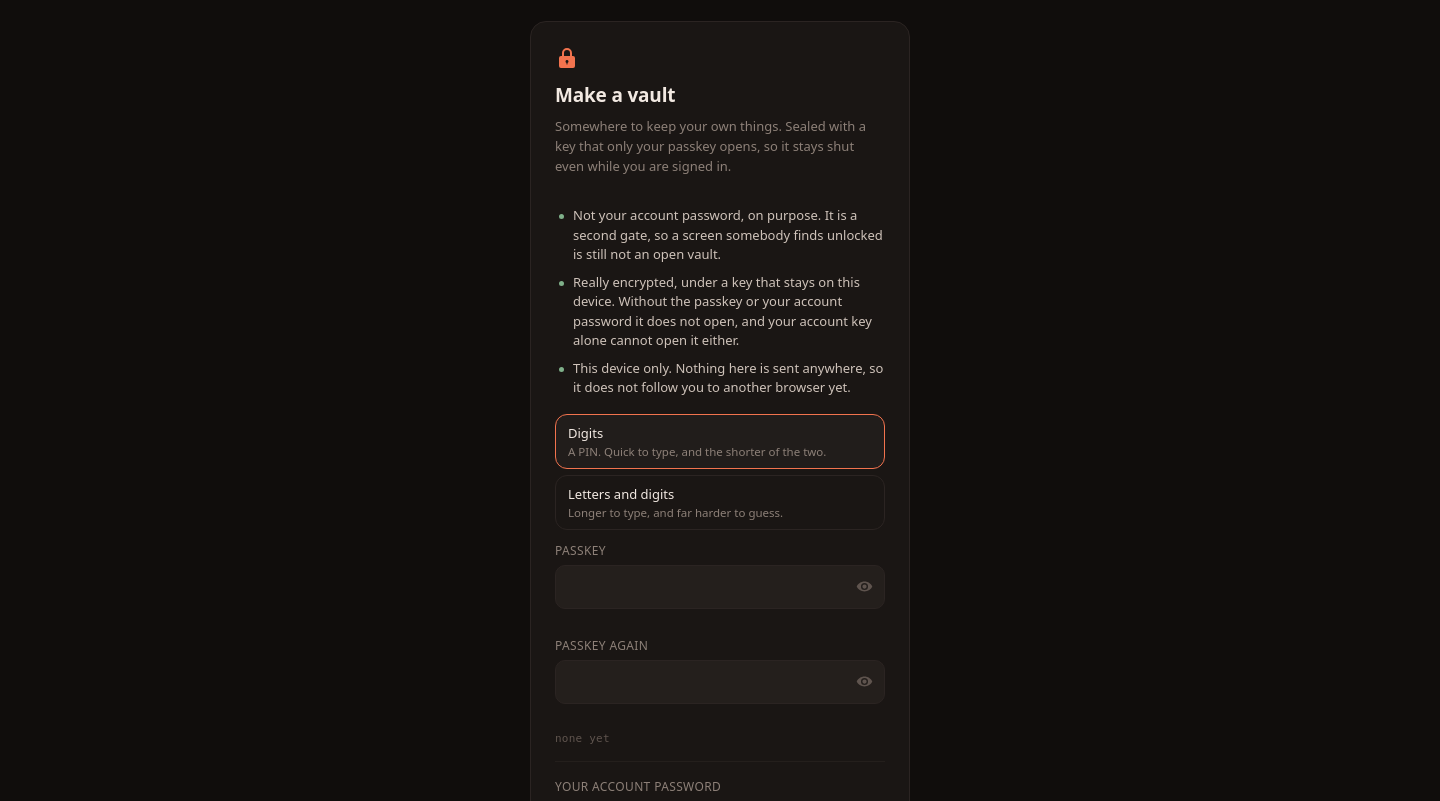
Scenario: the vault screen › shuts again on Lock, and refuses the wrong passkey
Type "318842" into the password field labelled "Passkey". click: (720, 587)
box: [555,565,885,609]
Type "318842" into the password field labelled "Passkey again". click: (720, 682)
box: [555,660,885,704]
(page scrolled)
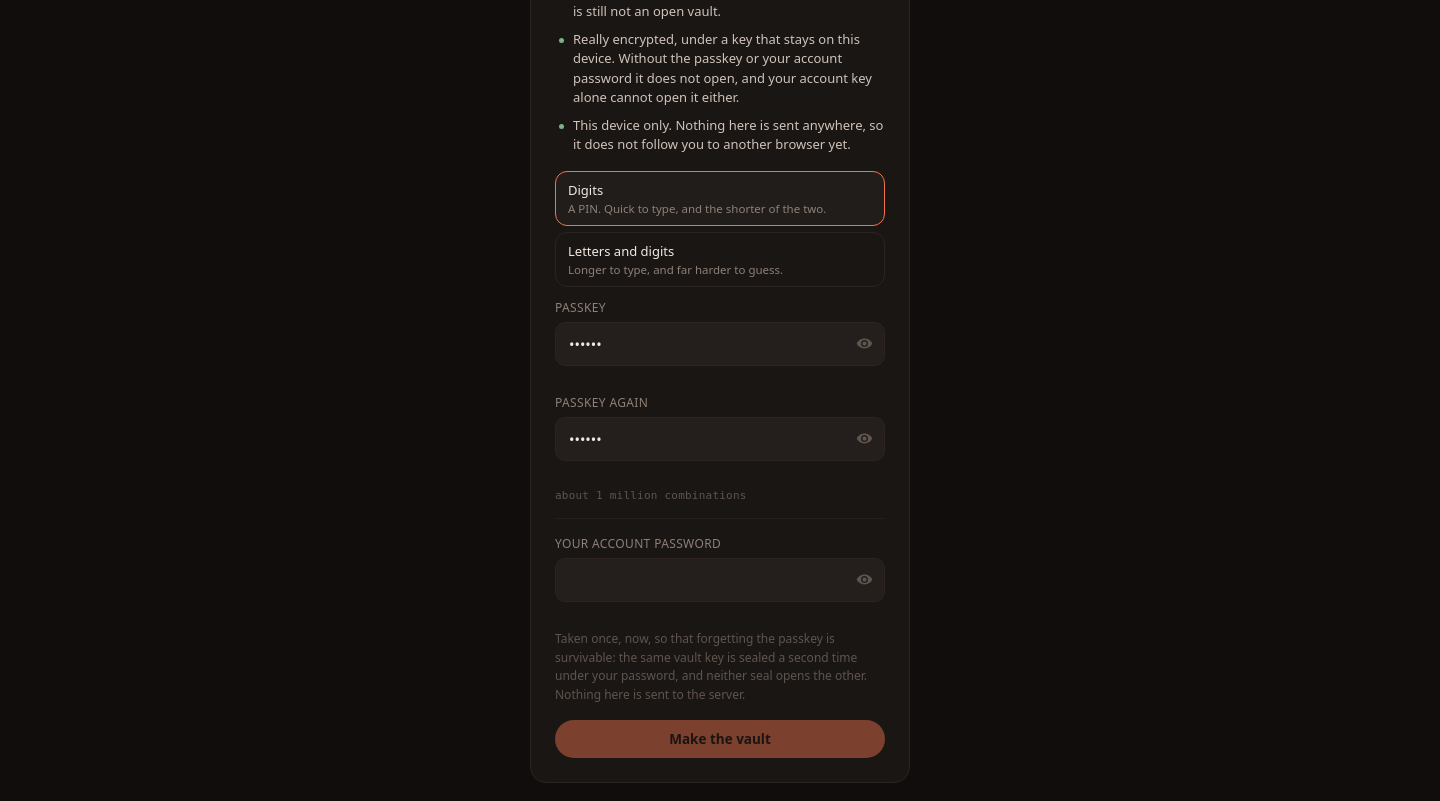
Type "correct-horse-battery-staple" into the password field labelled "Your account password". click: (720, 580)
box: [555,558,885,602]
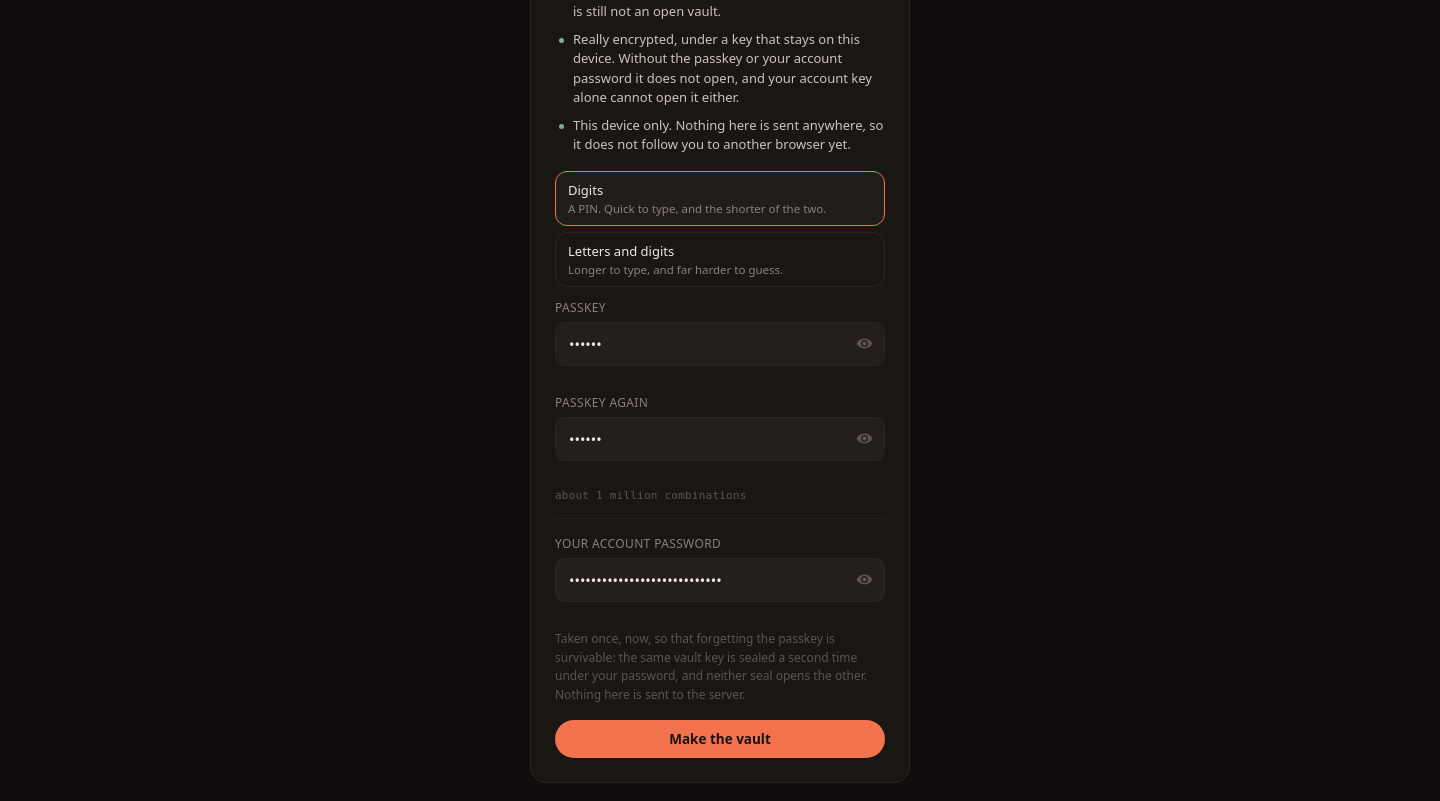
Click the button "Make the vault". click: click(720, 739)
box: [555,720,885,758]
(page scrolled)
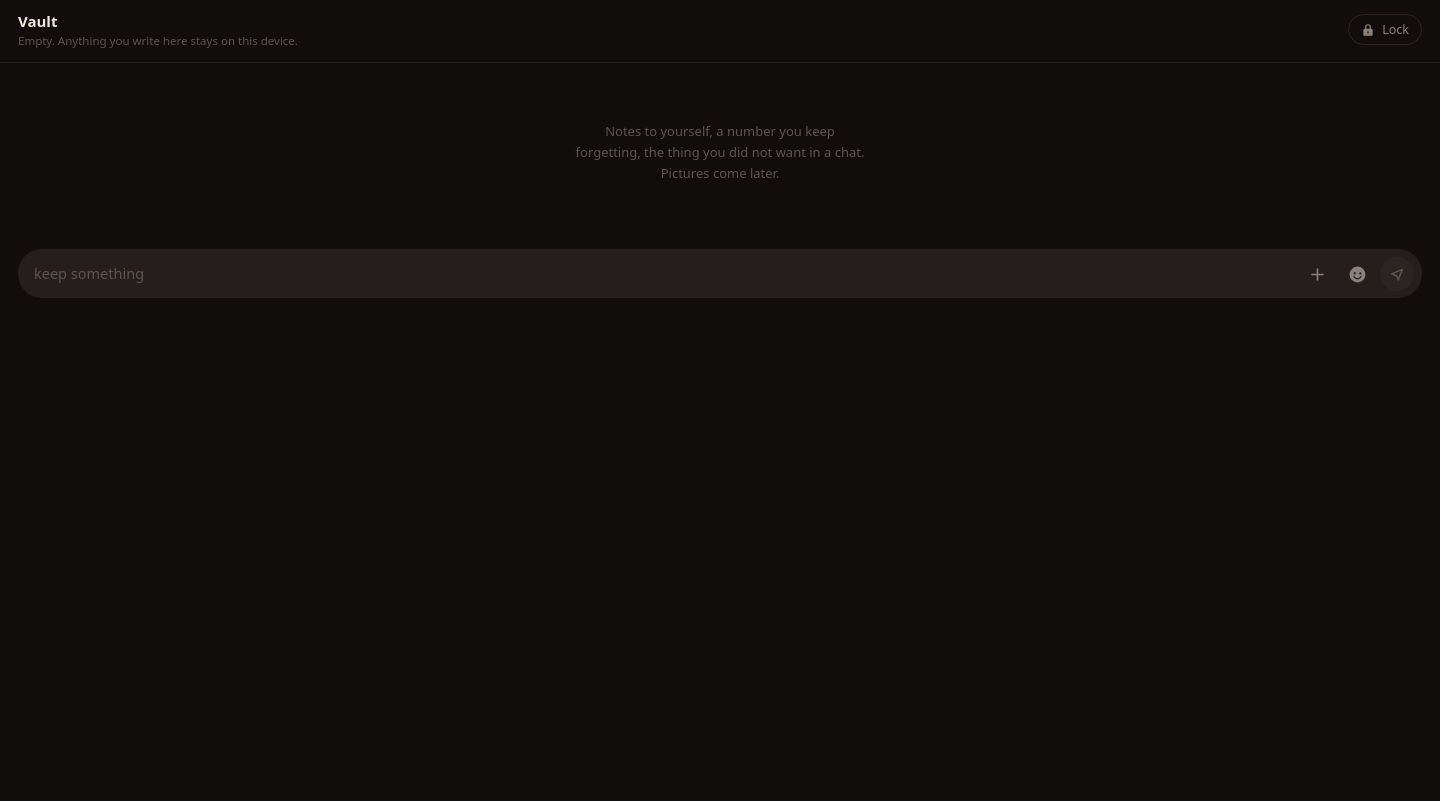
Now the text box with placeholder "keep something" is shown, box [34,256,1294,291]
Click the button "Lock". click: click(1385, 30)
box: [1348,14,1422,45]
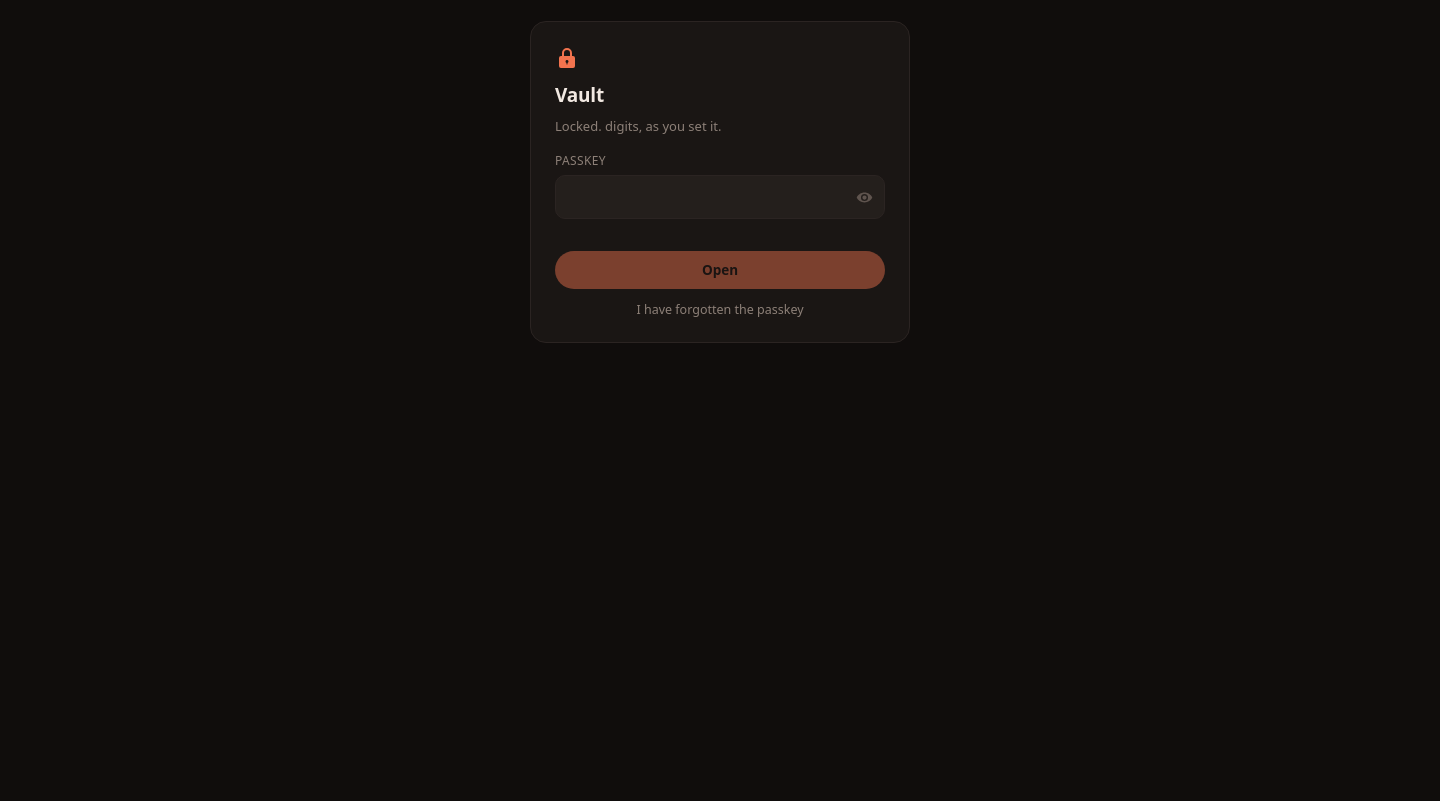
Type "000000" into the password field labelled "Passkey". click: (720, 197)
box: [555,175,885,219]
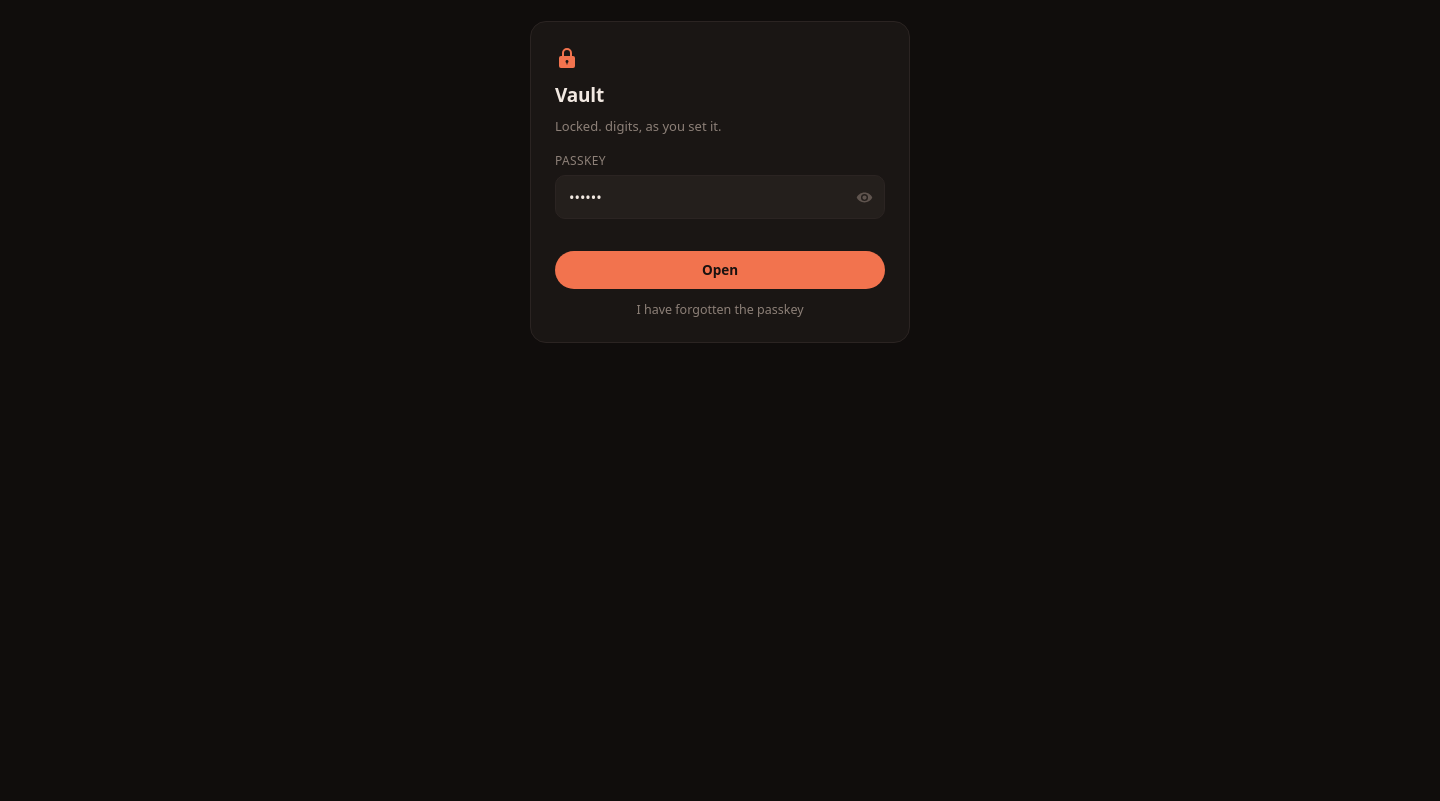
Click the button "Open". click: click(720, 270)
box: [555,251,885,289]
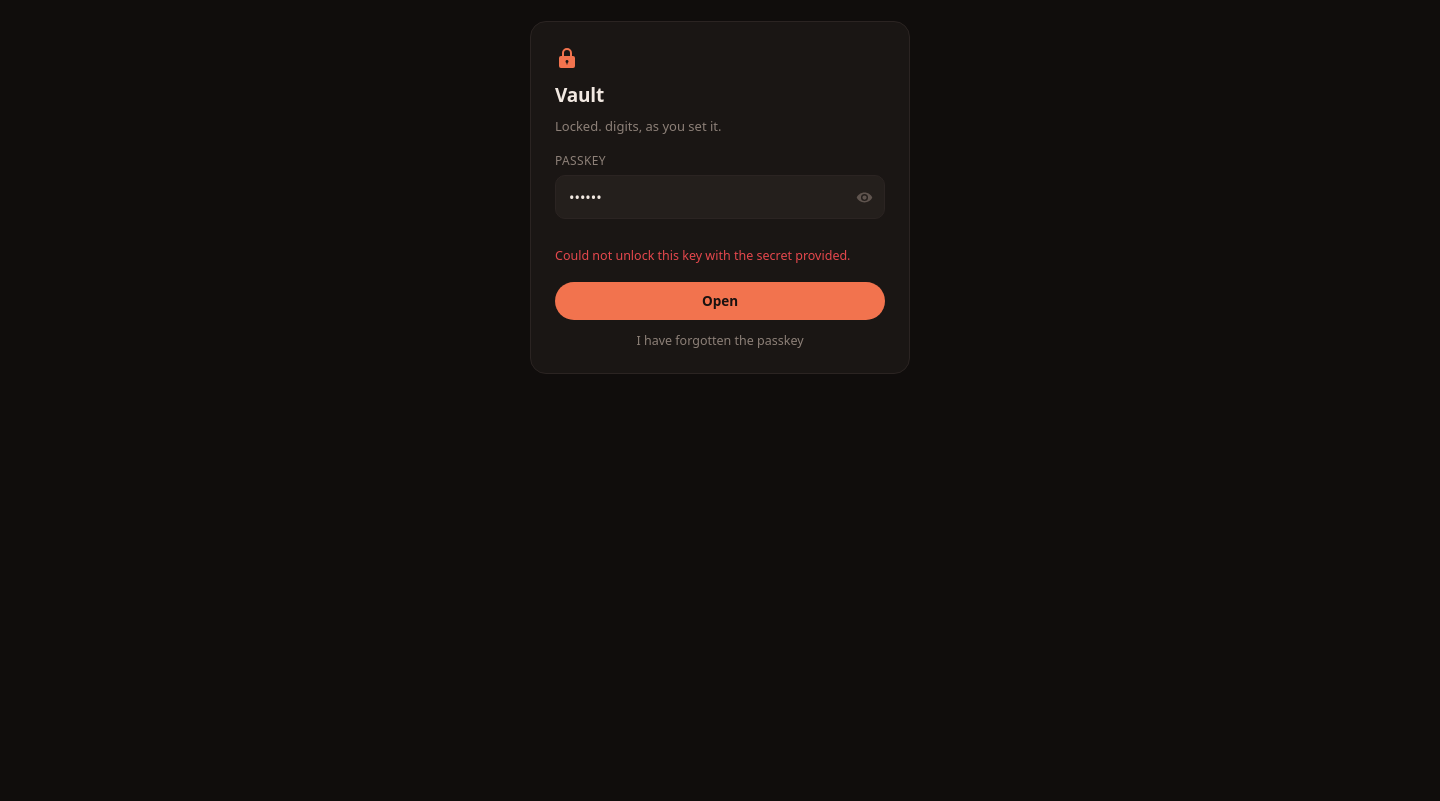
Expected: the field with placeholder "keep something" is not shown
Now the text "Could not unlock this key with the secret provided." is shown, box [555,247,885,266]
